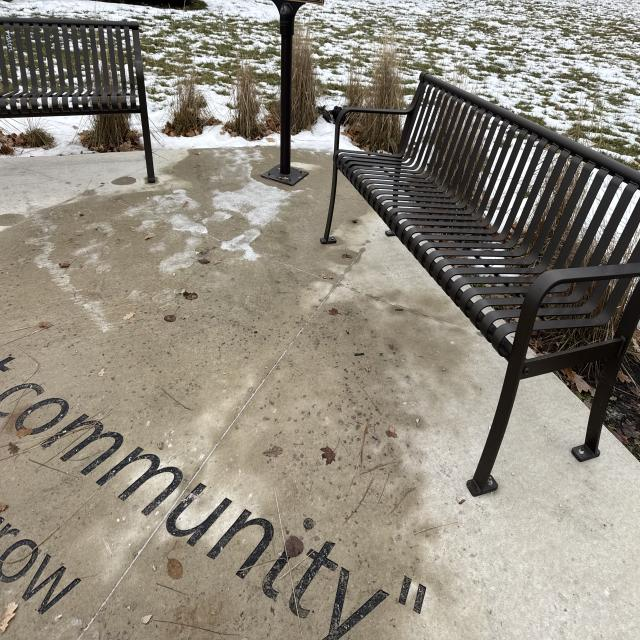Bench: (326, 57, 640, 491), (2, 19, 148, 175)
